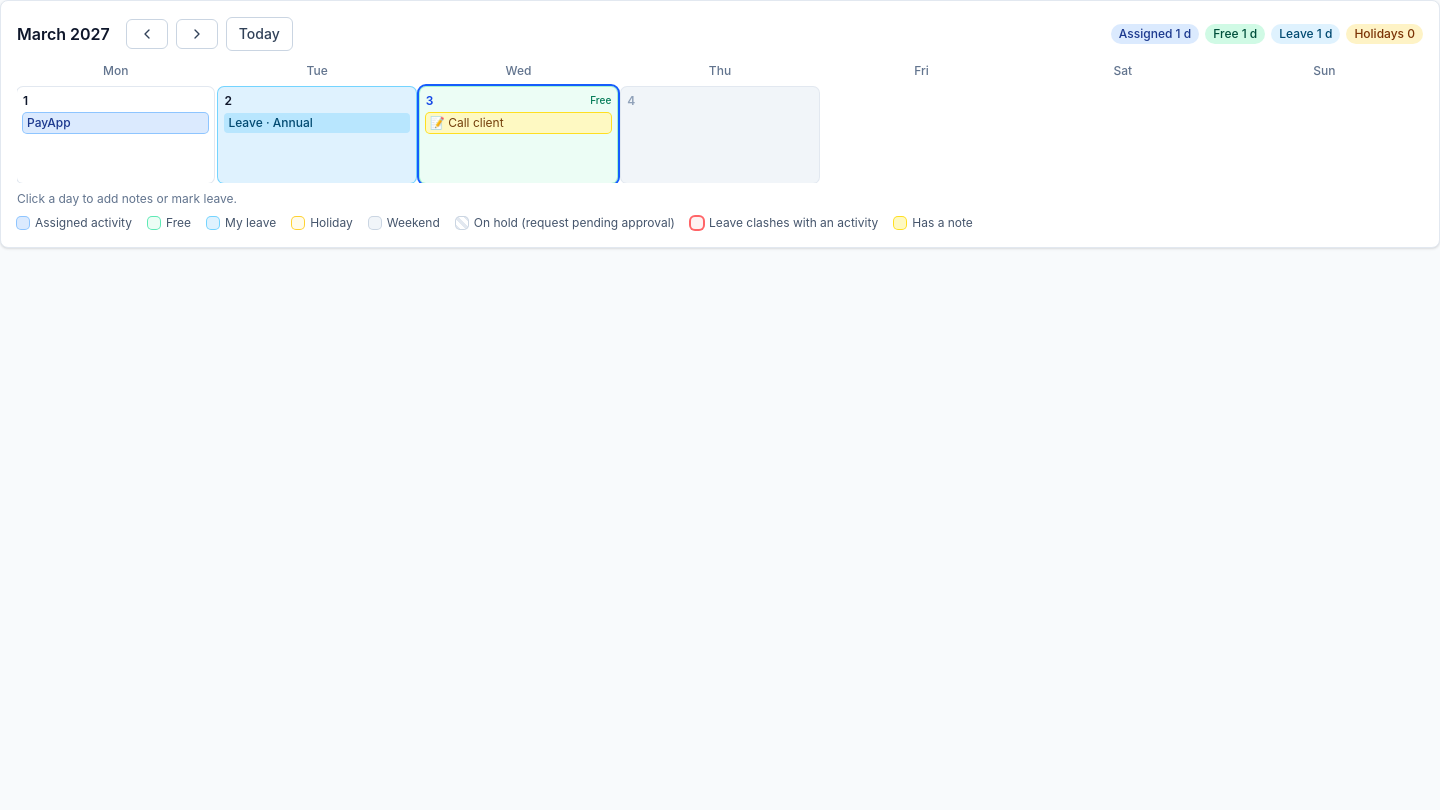
Test: MyMonthCalendar › shows notes on the day and opens a dialog with notes and leave forms on click
Step 1. Click the text "📝 Call client" → (518, 123), box [426, 113, 611, 133]
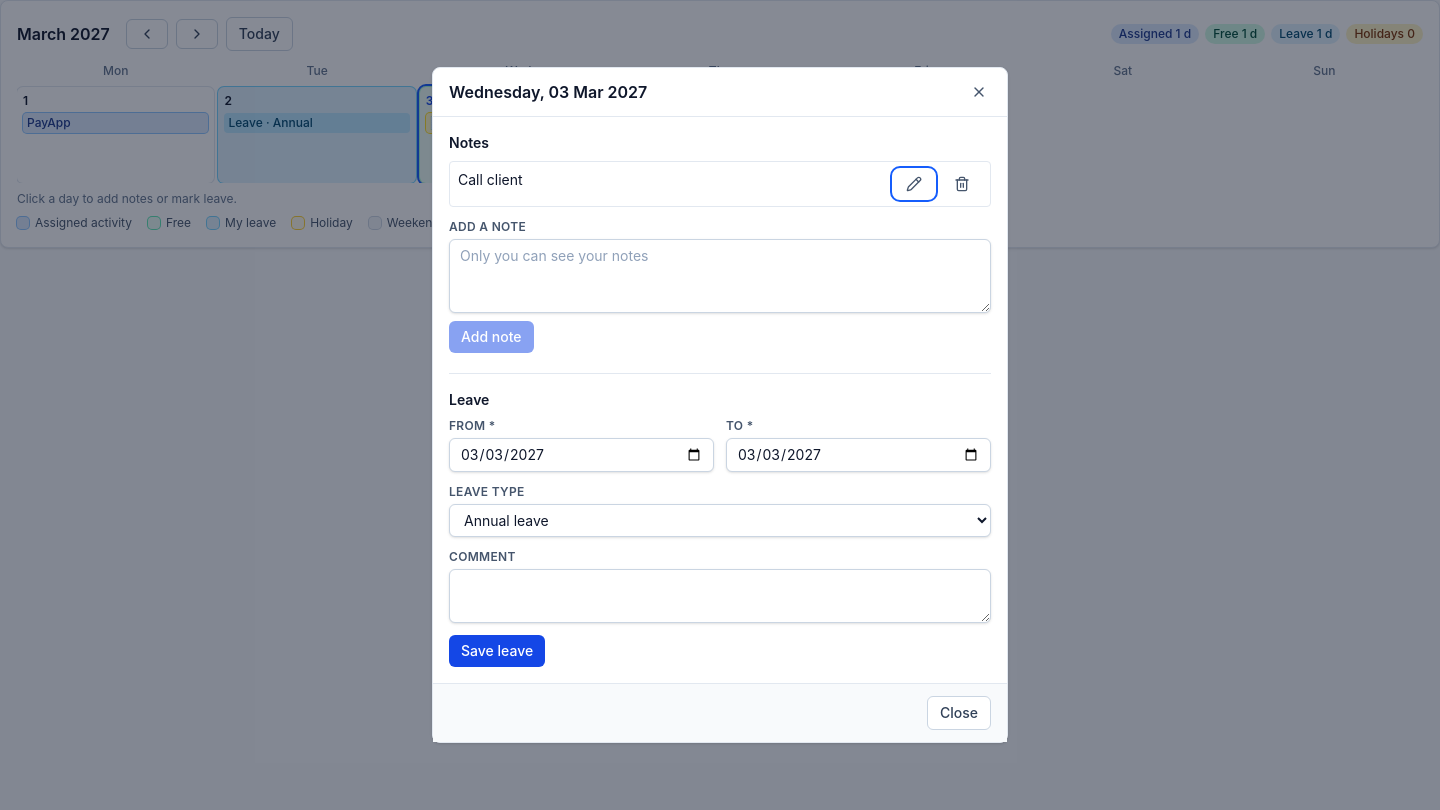
Check: the text box labelled "Add a note" is shown, box [449, 239, 991, 313]
Check: the text "Call client" is shown, box [458, 171, 523, 188]
